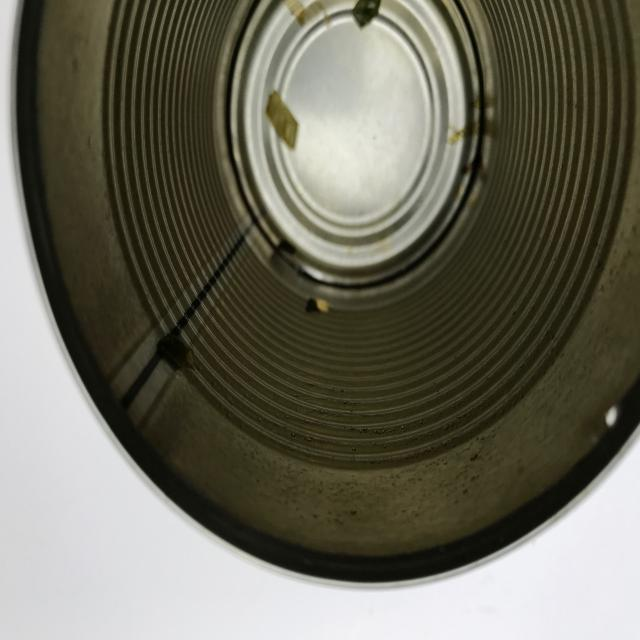metal: (10, 0, 640, 589)
